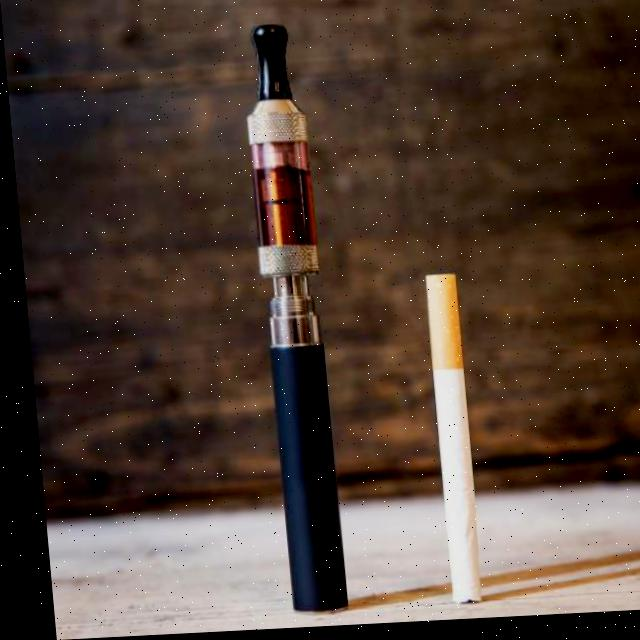cigarette: (421, 276, 472, 606)
vape: (237, 23, 339, 617)
